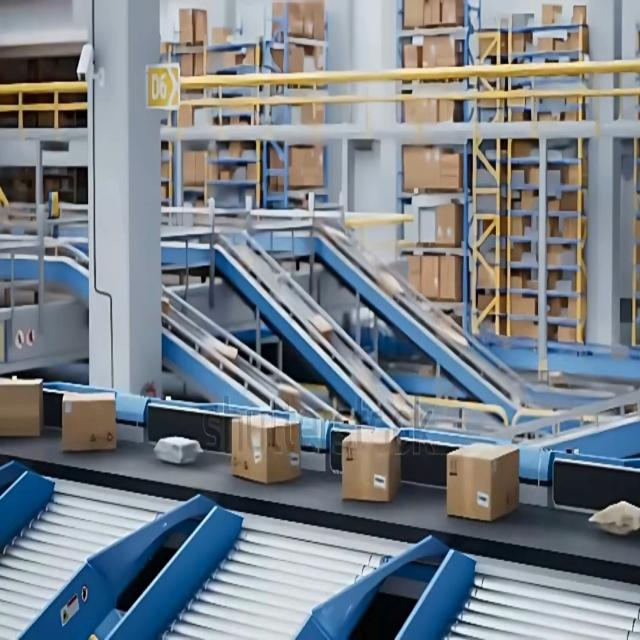product 1: (230, 413, 301, 484), (341, 426, 401, 502), (446, 441, 478, 521), (78, 391, 116, 452)
product 2: (153, 435, 205, 465)
